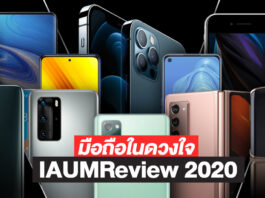phone: (119, 19, 183, 113), (28, 88, 101, 155), (162, 90, 230, 158)
